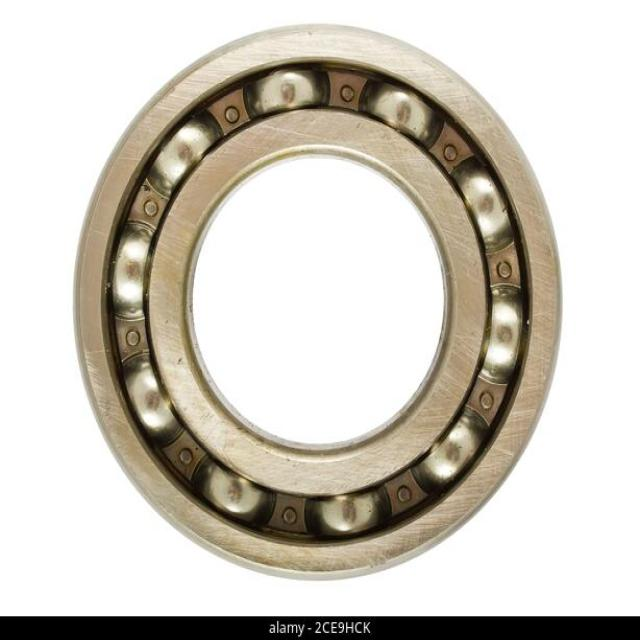Bearing: (64, 19, 564, 584)
